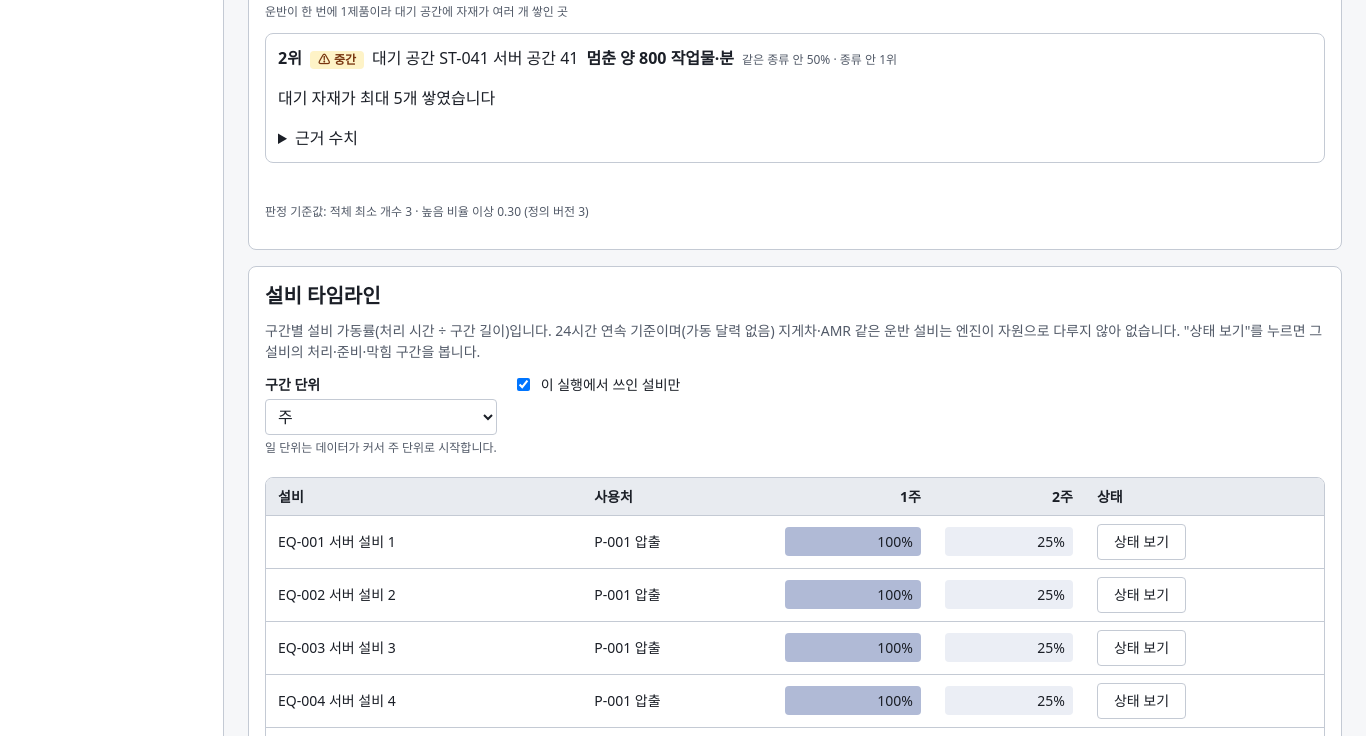
Test case: 설비 타임라인 › '쓰인 설비만'을 끄면 쓰이지 않은 설비도 전 구간 유휴로 보인다
(page scrolled)
Click the checkbox labelled "이 실행에서 쓰인 설비만" at (523, 384), box [517,378,530,391]
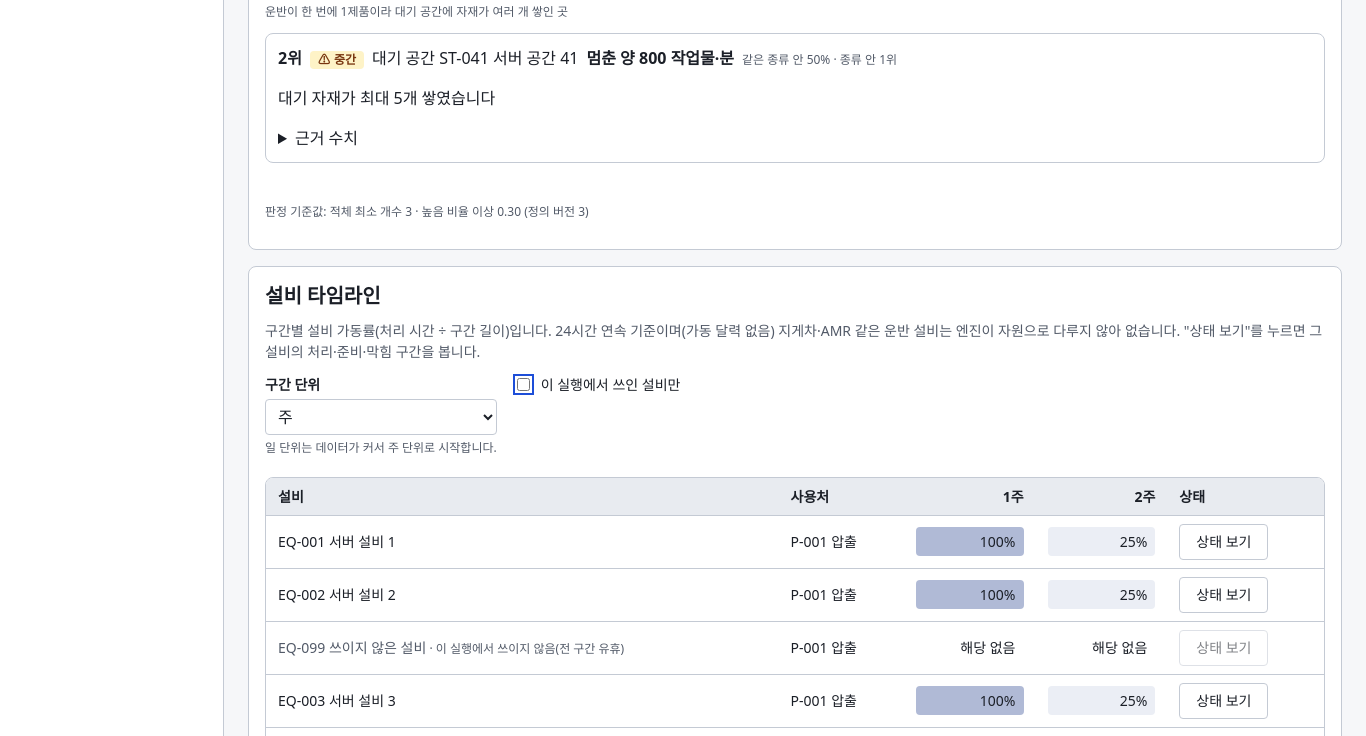
Check: the text "EQ-099 쓰이지 않은 설비 · 이 실행에서 쓰이지 않음(전 구간 유휴)" is shown, box [278,638,624,657]
Check: the text "· 이 실행에서 쓰이지 않음(전 구간 유휴)" is shown, box [426,640,624,657]
Check: the button with aria-label "EQ-099 쓰이지 않은 설비 상태 보기" is disabled, box [1179,630,1268,666]
